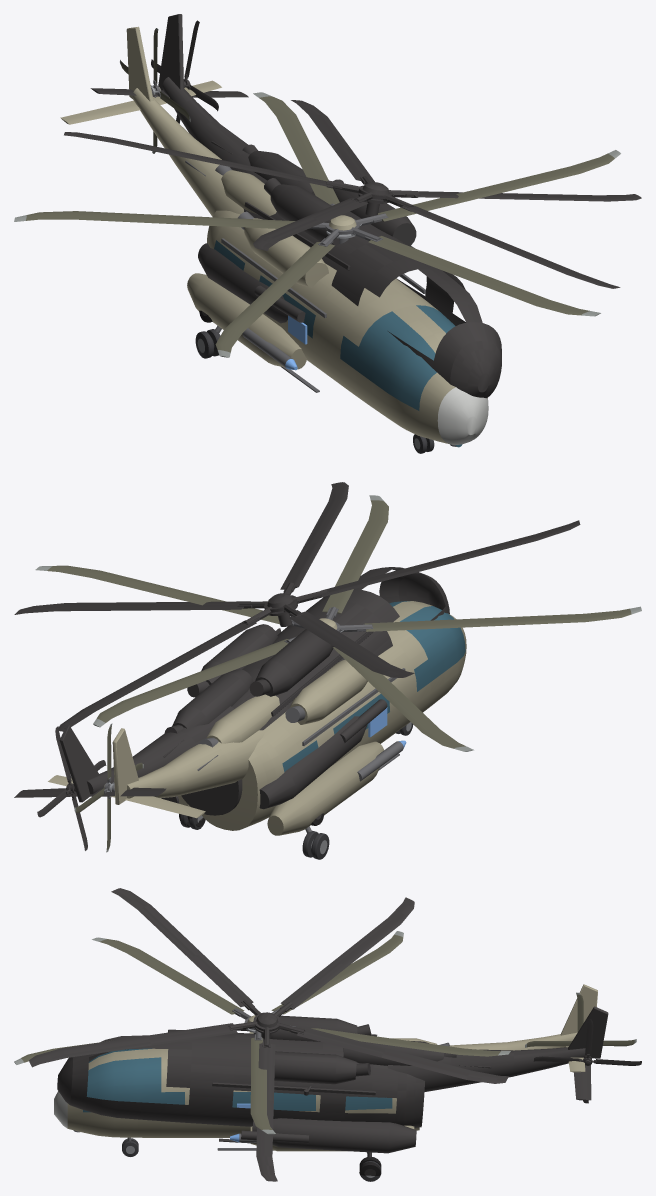
Rendered from navalHelicopter__merlin_hm2.glb.
The picture shows the model from 3 angles, top to bottom: view 1: azimuth 30°, elevation 25°; view 2: azimuth 150°, elevation 25°; view 3: azimuth 270°, elevation 25°; orthographic projection. The views are drawn at different scales.
Visible parts, largest first — view 1: Wreck, Fuselage_Mesh, Rotor_Main_Mesh, Engines_Mesh, Landing_Gear_Mesh, Rotor_Tail_Mesh, Naval_Mission_Kit_Mesh; view 2: Wreck, Fuselage_Mesh, Rotor_Main_Mesh, Engines_Mesh, Landing_Gear_Mesh, Rotor_Tail_Mesh, Naval_Mission_Kit_Mesh; view 3: Wreck, Fuselage_Mesh, Rotor_Main_Mesh, Rotor_Tail_Mesh, Landing_Gear_Mesh.
Part boxes in pixels (left/top/right/bottom): Wreck: left=64, top=14, right=641, bottom=398; Fuselage_Mesh: left=60, top=26, right=488, bottom=447; Rotor_Main_Mesh: left=14, top=92, right=620, bottom=357; Engines_Mesh: left=215, top=165, right=328, bottom=287; Landing_Gear_Mesh: left=195, top=325, right=434, bottom=453; Rotor_Tail_Mesh: left=120, top=28, right=190, bottom=153; Naval_Mission_Kit_Mesh: left=242, top=328, right=297, bottom=370; Wreck: left=14, top=482, right=580, bottom=850; Fuselage_Mesh: left=48, top=601, right=466, bottom=835; Rotor_Main_Mesh: left=35, top=495, right=641, bottom=751; Engines_Mesh: left=199, top=659, right=367, bottom=747; Landing_Gear_Mesh: left=180, top=722, right=413, bottom=859; Rotor_Tail_Mesh: left=74, top=723, right=143, bottom=852; Naval_Mission_Kit_Mesh: left=357, top=740, right=406, bottom=781; Wreck: left=29, top=888, right=641, bottom=1181; Fuselage_Mesh: left=54, top=984, right=597, bottom=1151; Rotor_Main_Mesh: left=14, top=931, right=510, bottom=1134; Rotor_Tail_Mesh: left=525, top=992, right=636, bottom=1047; Landing_Gear_Mesh: left=122, top=1137, right=381, bottom=1181.
Size of what is drawn, in the model's own units: 17.86 by 7.89 by 22.46.
